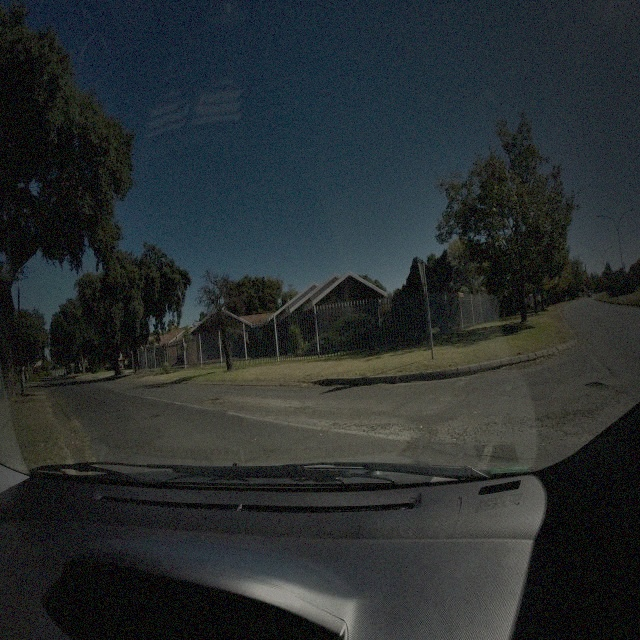pothole: (583, 379, 610, 391), (200, 395, 220, 407)
